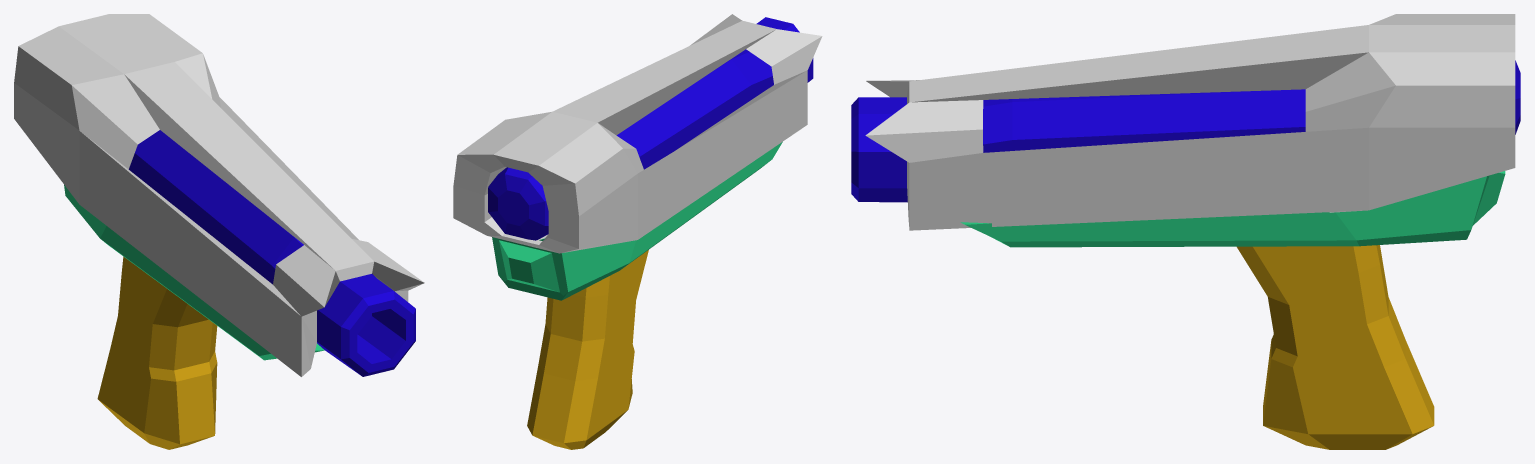
File: pistolPrototype_painted.fbx
3 views of the same model, side by side, from view 1: azimuth 30°, elevation 25°; view 2: azimuth 150°, elevation 25°; view 3: azimuth 270°, elevation 25° (orthographic). The views are drawn at different scales.
Parts seen in each view (by area): view 1: Cube.001, Pistol; view 2: Cube.001, Pistol; view 3: Cube.001, Pistol.
Part boxes in pixels (x1=…): Cube.001: x1=14, y1=14, x2=424, y2=376; Pistol: x1=64, y1=130, x2=415, y2=449; Cube.001: x1=453, y1=14, x2=822, y2=253; Pistol: x1=488, y1=17, x2=813, y2=449; Cube.001: x1=865, y1=14, x2=1515, y2=230; Pistol: x1=851, y1=60, x2=1520, y2=449.
Size of the model in its own units: 5.57 by 13.68 by 20.66.
